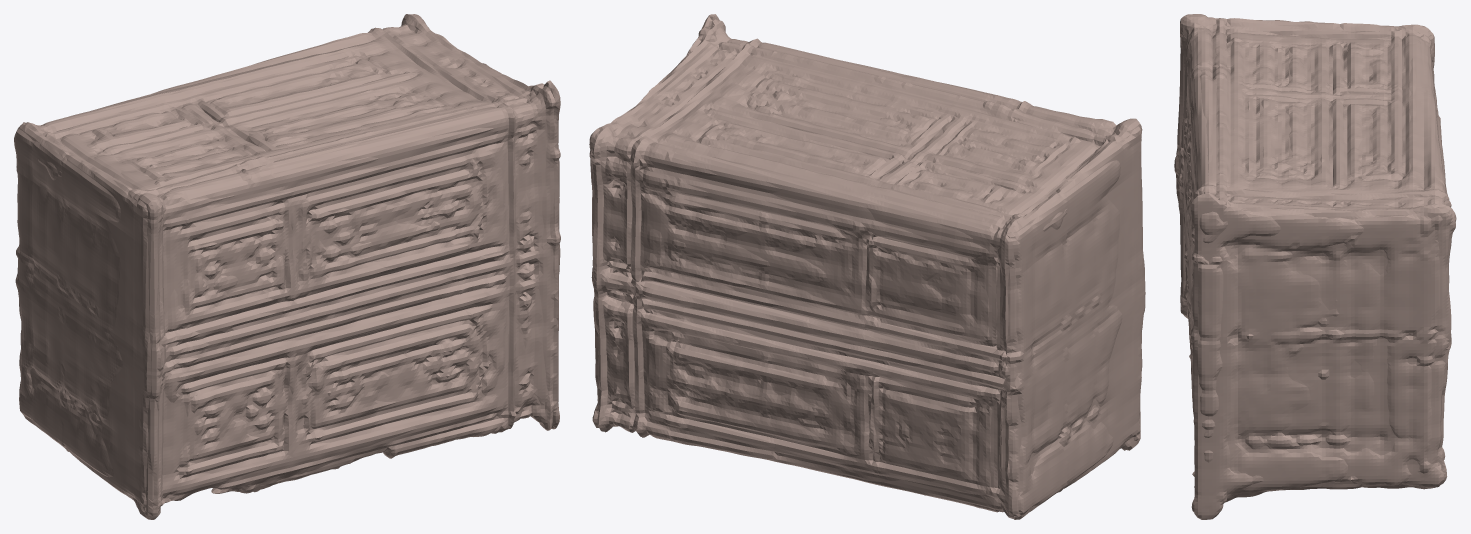
File: raw.glb
3 views of the same model, side by side, from view 1: azimuth 30°, elevation 25°; view 2: azimuth 150°, elevation 25°; view 3: azimuth 270°, elevation 25° (orthographic). The views are drawn at different scales.
Visible parts, largest first — view 1: world; view 2: world; view 3: world.
Part boxes in pixels (x1,y1,x2,y2): world: (14, 14, 560, 519); world: (589, 14, 1145, 519); world: (1174, 14, 1456, 519).
Bounding box in the file's own units: 1.2 × 0.9272 × 0.7237.
